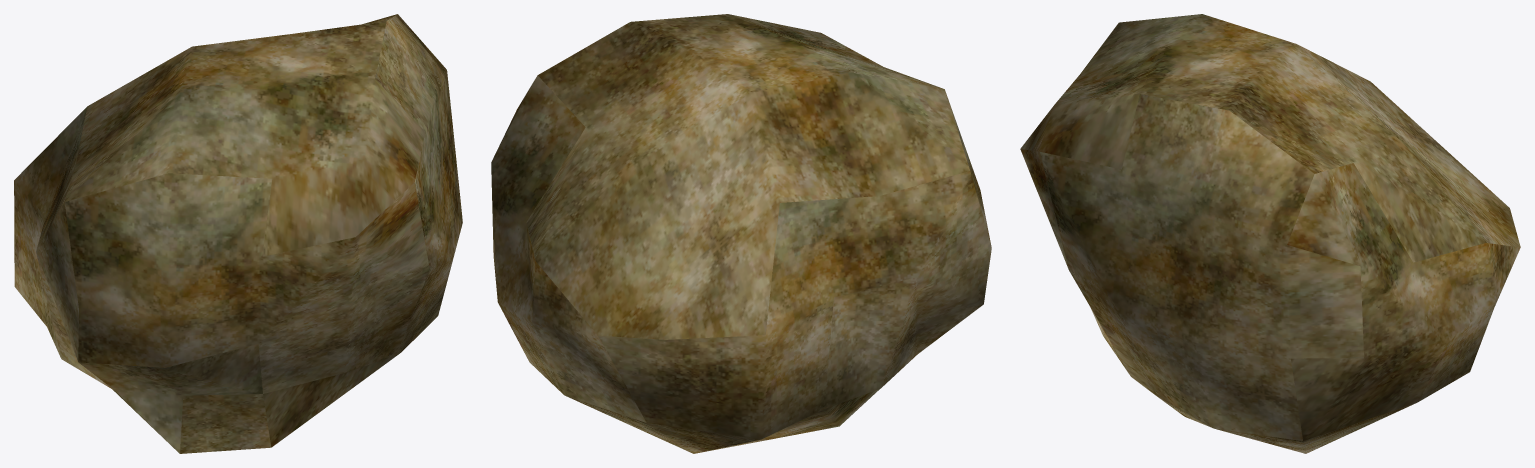
Rendered from LVL_ROAST_MUTTON_ROCK06.fbx.
3 renders of one model, left to right at view 1: azimuth 30°, elevation 25°; view 2: azimuth 150°, elevation 25°; view 3: azimuth 270°, elevation 25°, orthographic. The views are drawn at different scales.
Visible parts, largest first — view 1: LVL_ROAST_MUTTON_ROCK06; view 2: LVL_ROAST_MUTTON_ROCK06; view 3: LVL_ROAST_MUTTON_ROCK06.
Part boxes in pixels (x1=…): LVL_ROAST_MUTTON_ROCK06: x1=14, y1=14, x2=462, y2=453; LVL_ROAST_MUTTON_ROCK06: x1=491, y1=14, x2=991, y2=453; LVL_ROAST_MUTTON_ROCK06: x1=1020, y1=14, x2=1520, y2=453.
Bounding box in the file's own units: 15906 × 13228 × 16094.
1 material, 1 textured.
